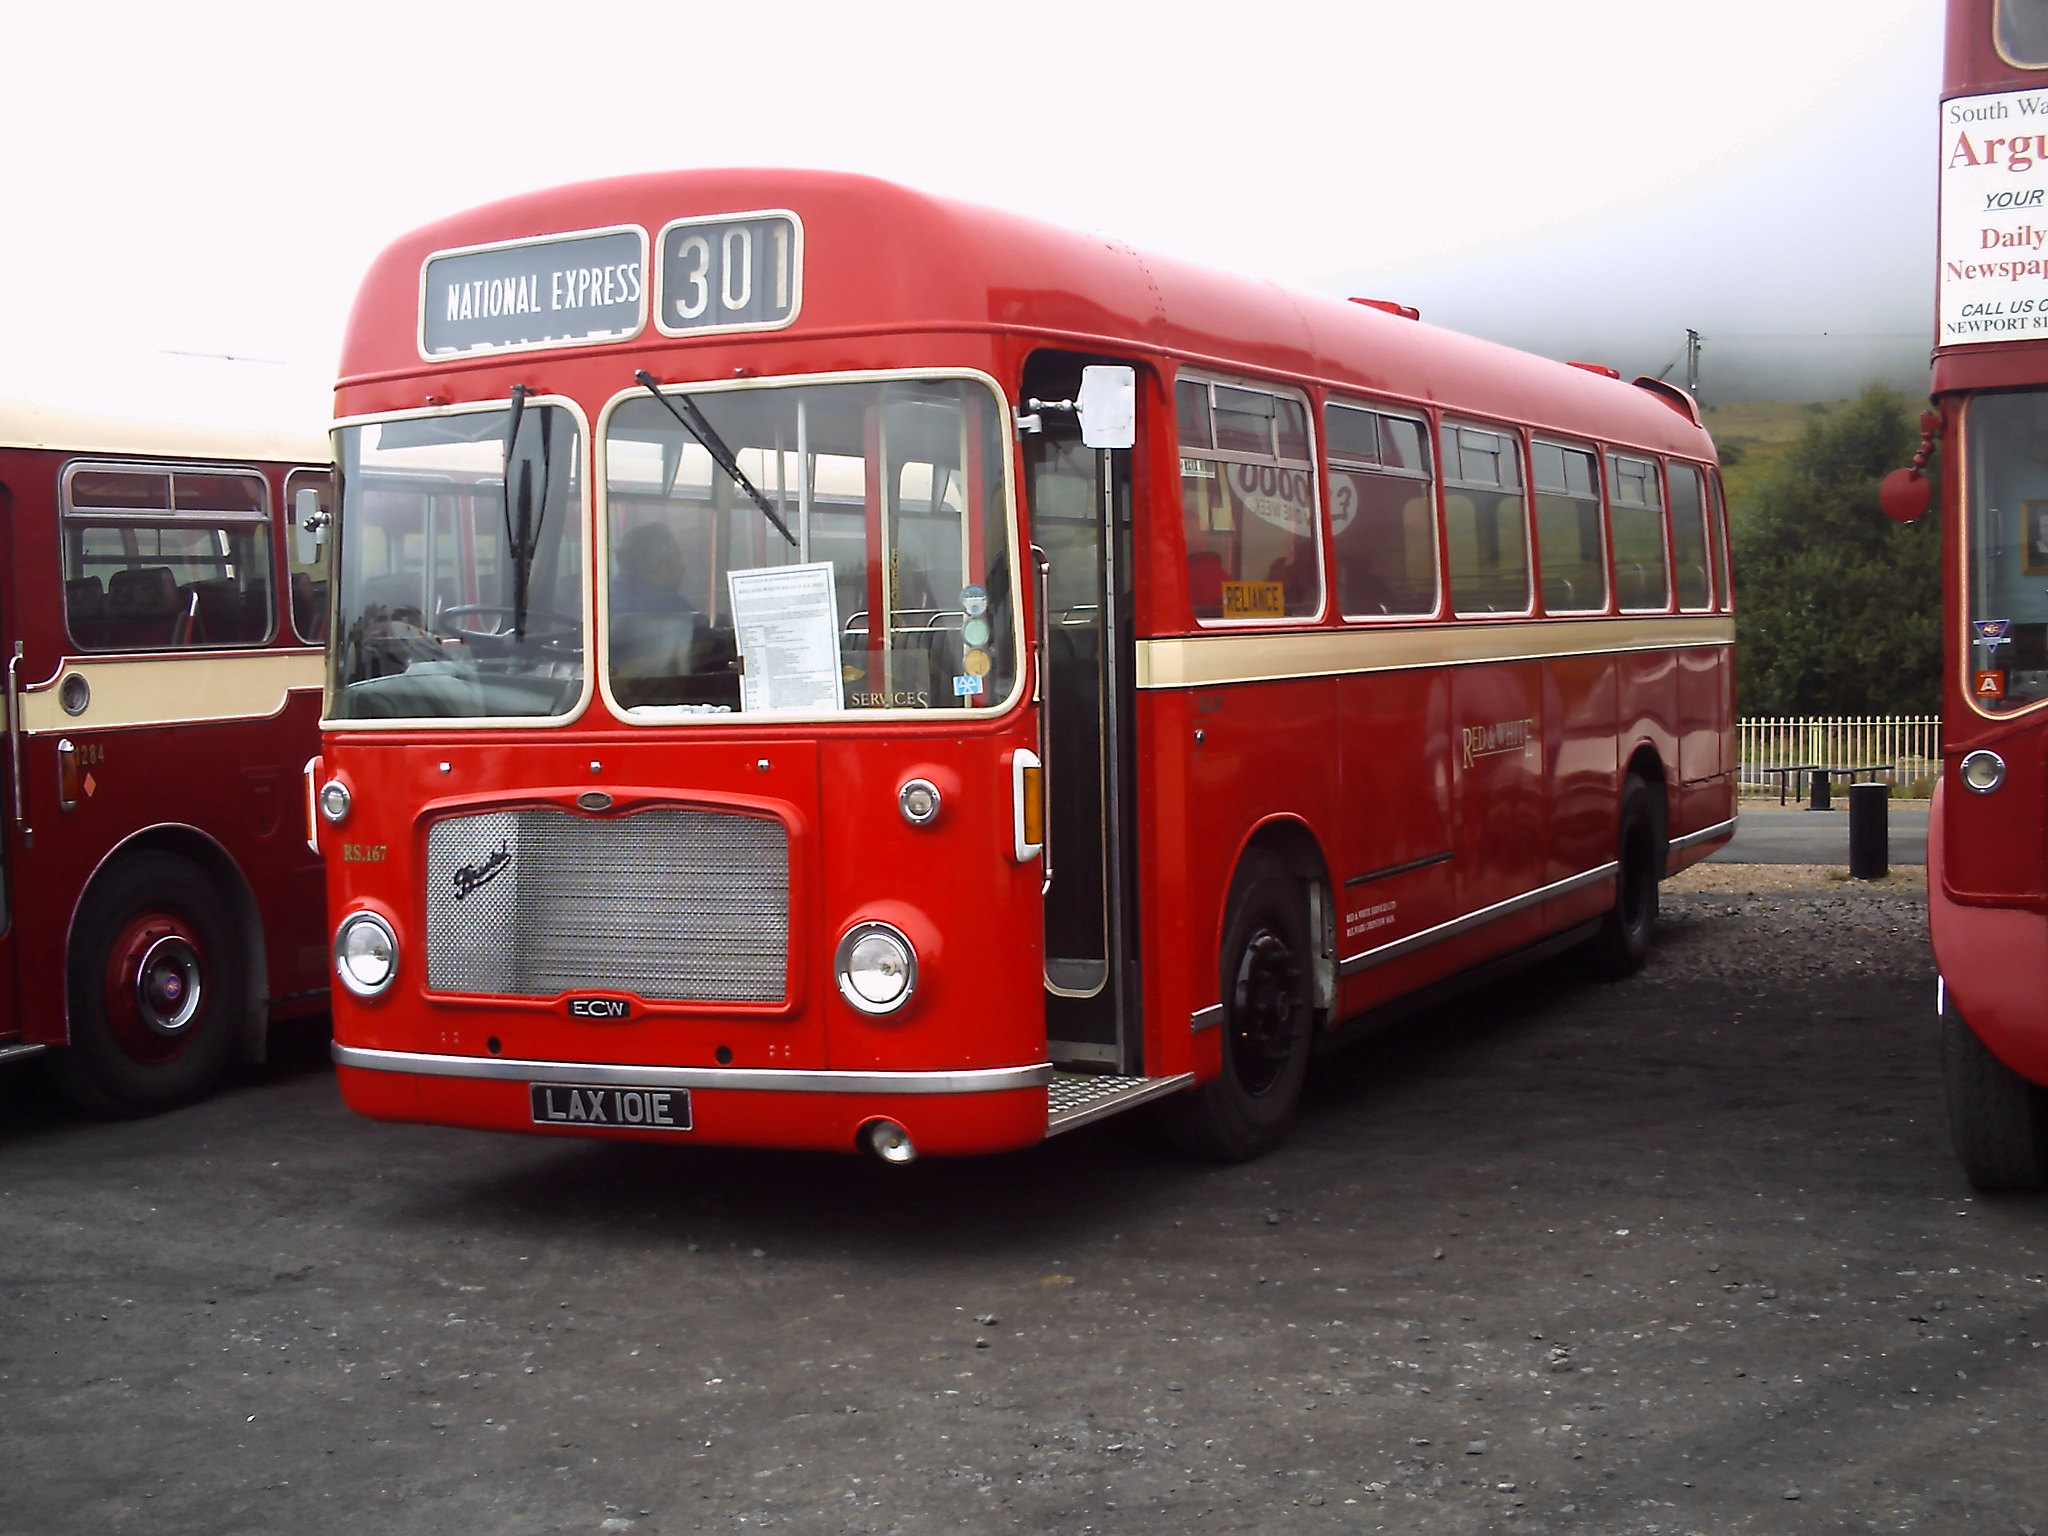bus: (319, 177, 1793, 1178)
